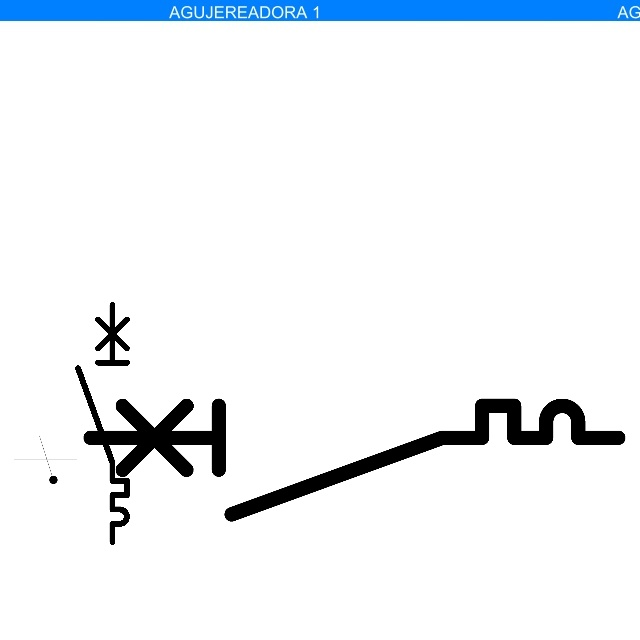interruptor_termomagnetico: (76, 392, 631, 528), (72, 299, 133, 548)
